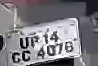0: (47, 43, 57, 59)
1: (41, 32, 50, 45)
4: (37, 47, 48, 61), (50, 30, 60, 44)
6: (63, 40, 77, 56)
7: (54, 41, 65, 57)
C: (21, 50, 34, 62), (10, 50, 21, 64)
P: (29, 34, 39, 48)
U: (20, 34, 30, 50)
